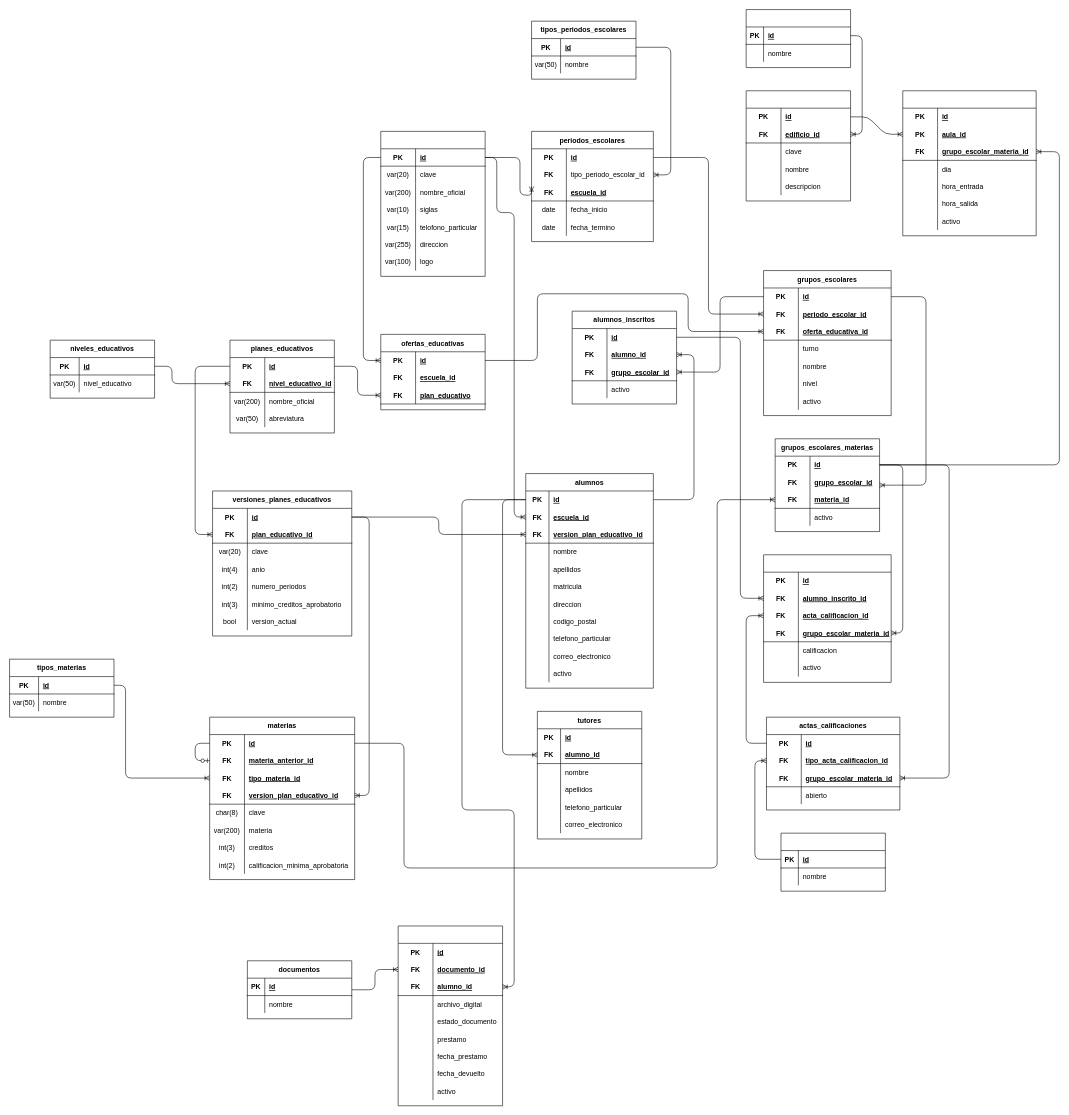
The diagram is 1069 pixels wide and 1115 high, and some of its shapes have lost their labels. Each missing label, with the box of its shape:
aulas: (746, 90, 851, 201)
calificaciones_alumnos: (763, 554, 891, 682)
documentos_alumnos: (398, 925, 503, 1106)
edificios: (746, 9, 851, 68)
escuelas: (380, 131, 485, 276)
horarios_grupos_escolares: (902, 90, 1036, 236)
tipos_actas_calificaciones: (780, 833, 885, 891)
